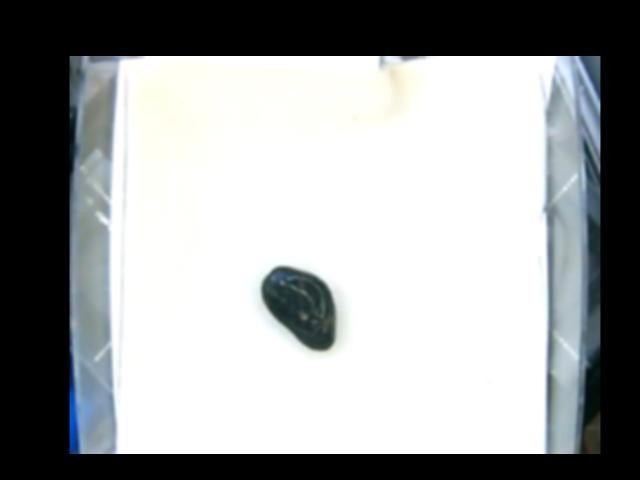Pebble: (261, 264, 338, 348)
